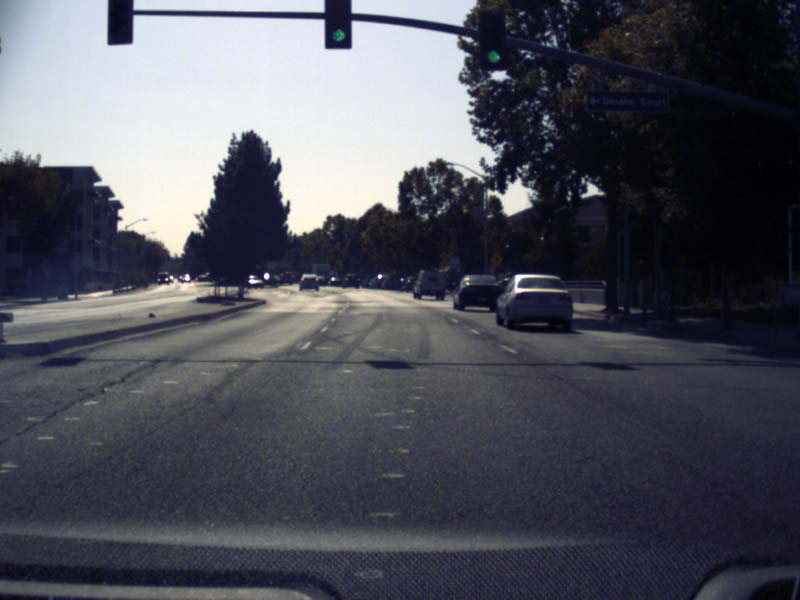Green: (477, 10, 507, 69)
